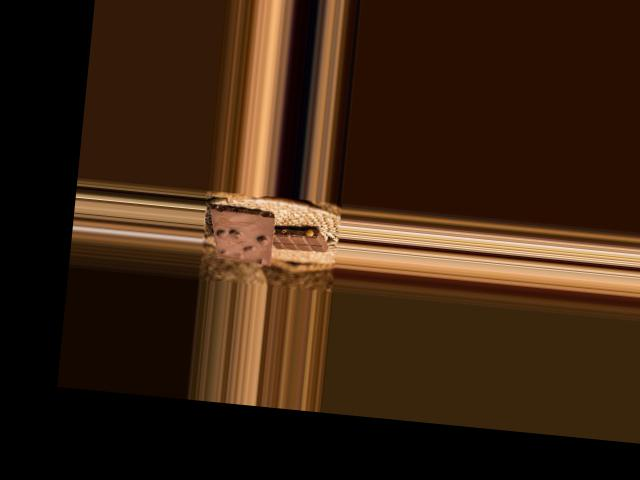chocolate: (204, 204, 280, 267)
